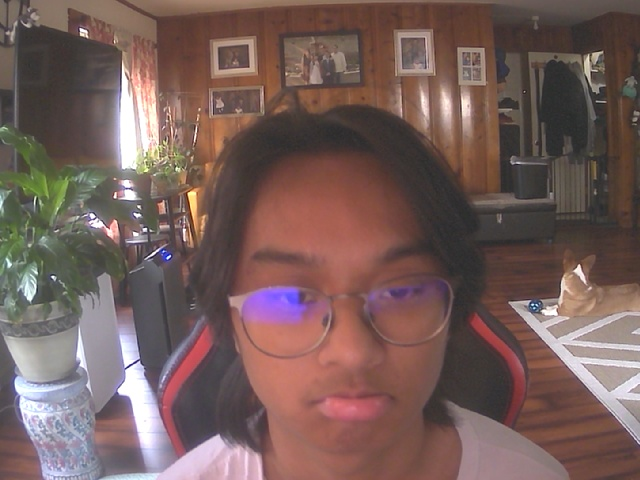sad: (220, 119, 476, 462)
